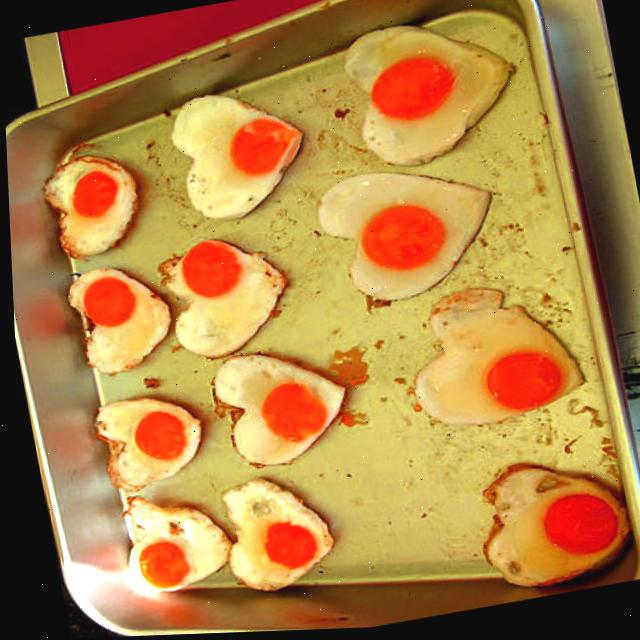鸡蛋料理: (339, 5, 536, 176), (382, 283, 582, 447), (320, 162, 506, 330), (158, 81, 318, 258), (455, 461, 633, 600), (211, 347, 357, 485), (148, 231, 297, 366), (22, 144, 152, 269), (106, 489, 242, 606), (222, 469, 342, 599), (94, 384, 217, 499), (64, 256, 170, 377)
